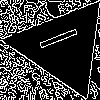I: (37, 21, 89, 52)
